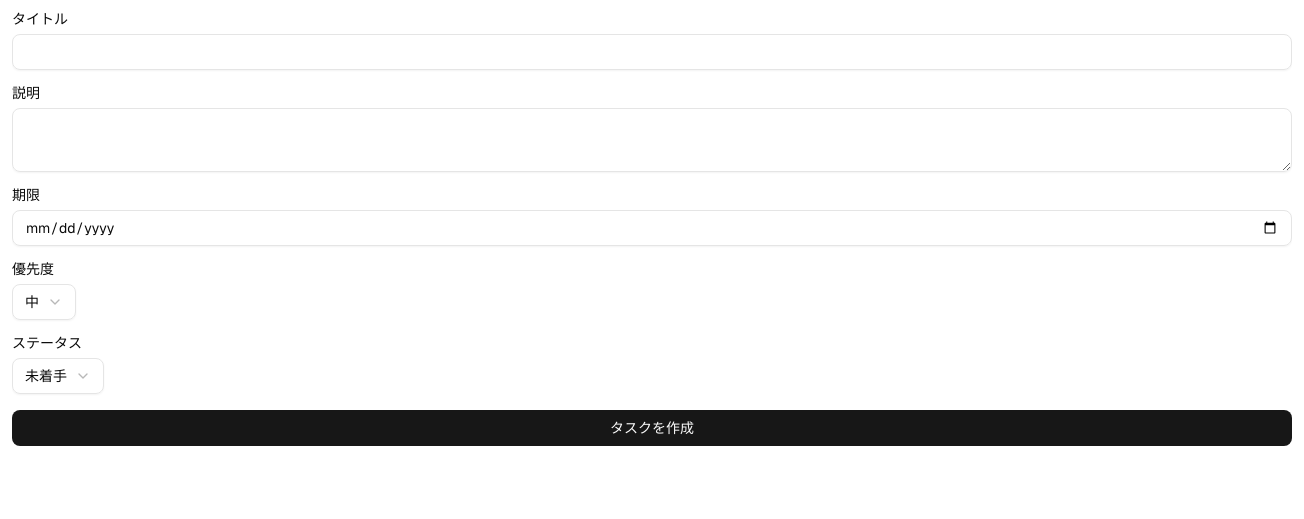
TaskForm › バリデーションエラーを表示する
Click the button "タスクを作成": [652, 428] box 12,410 -> 1292,446
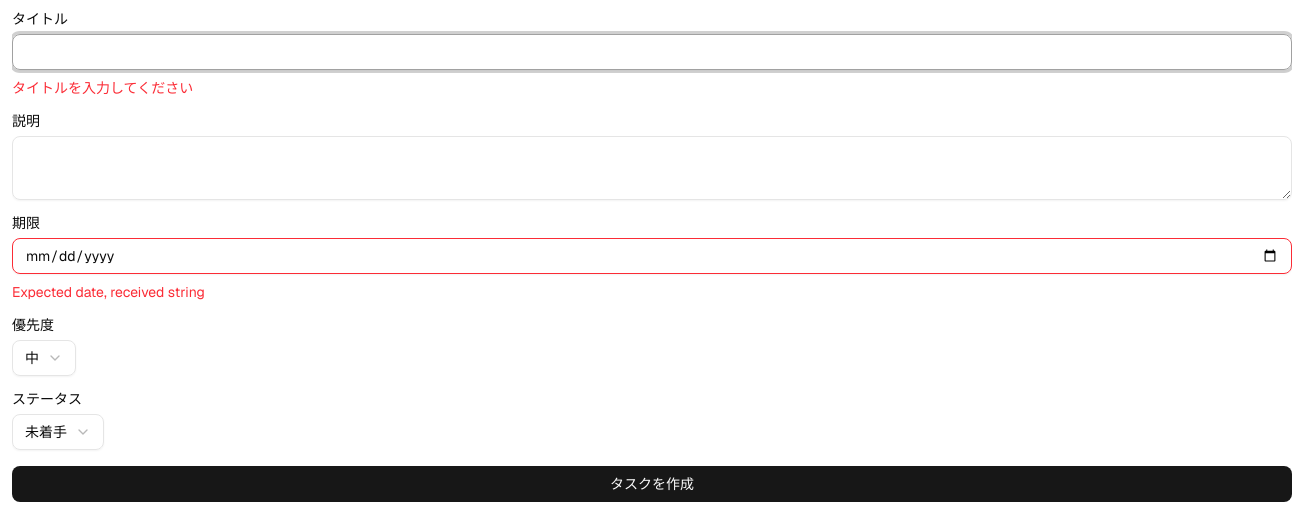
Expected: the text "タイトルを入力してください" is shown, 12,79 -> 193,97
